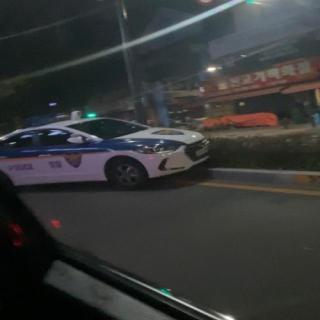Police_car: (0, 110, 211, 190)
